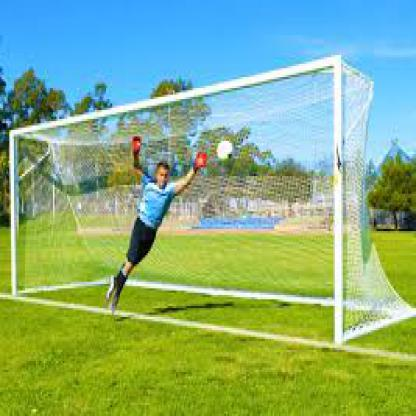goal: (140, 74, 266, 230)
